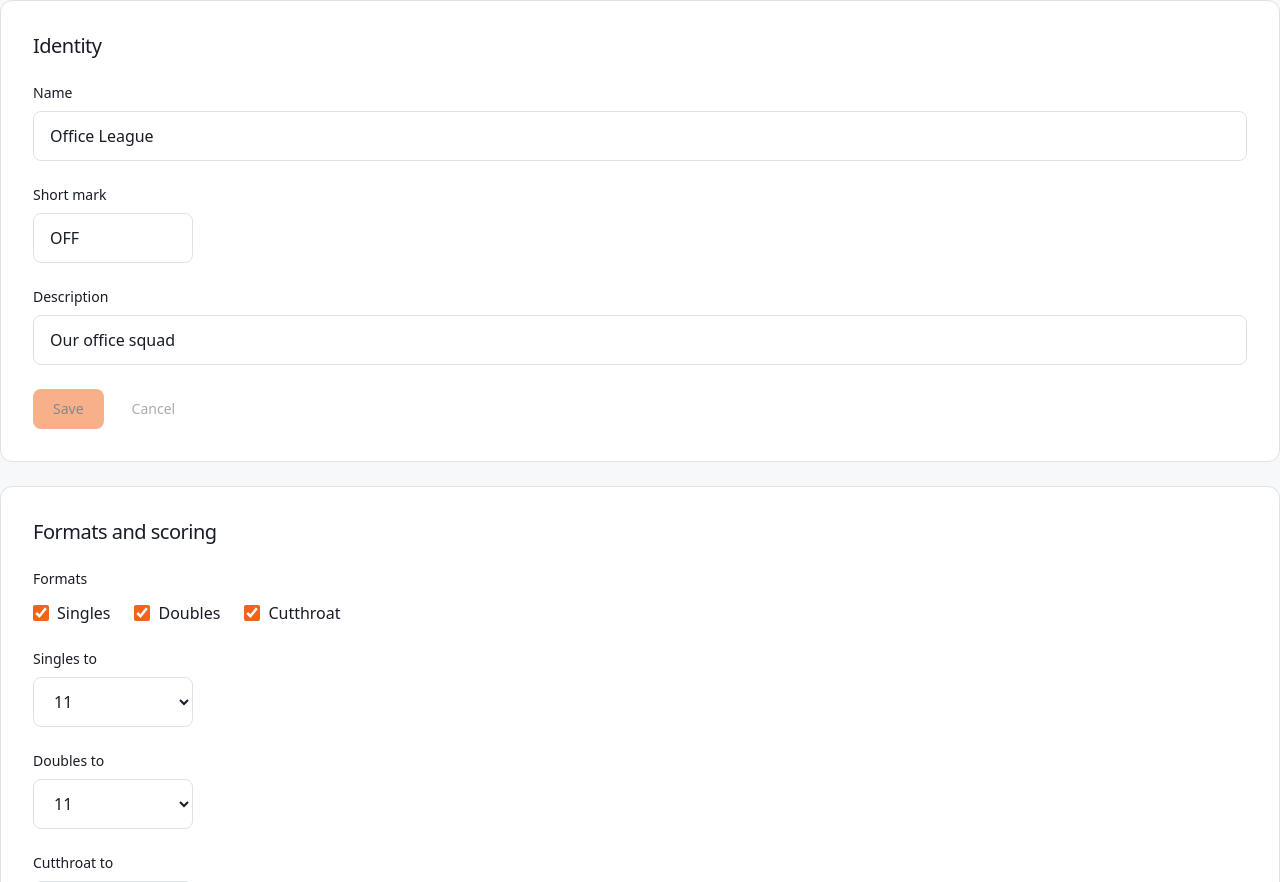
Test case: a save whose answer was lost › offers nothing to send while the re-read that decides is still in flight
Replace the text in the field with id "setting-name" with "Renamed" at coordinates (640, 136), box 33,111 -> 1247,161
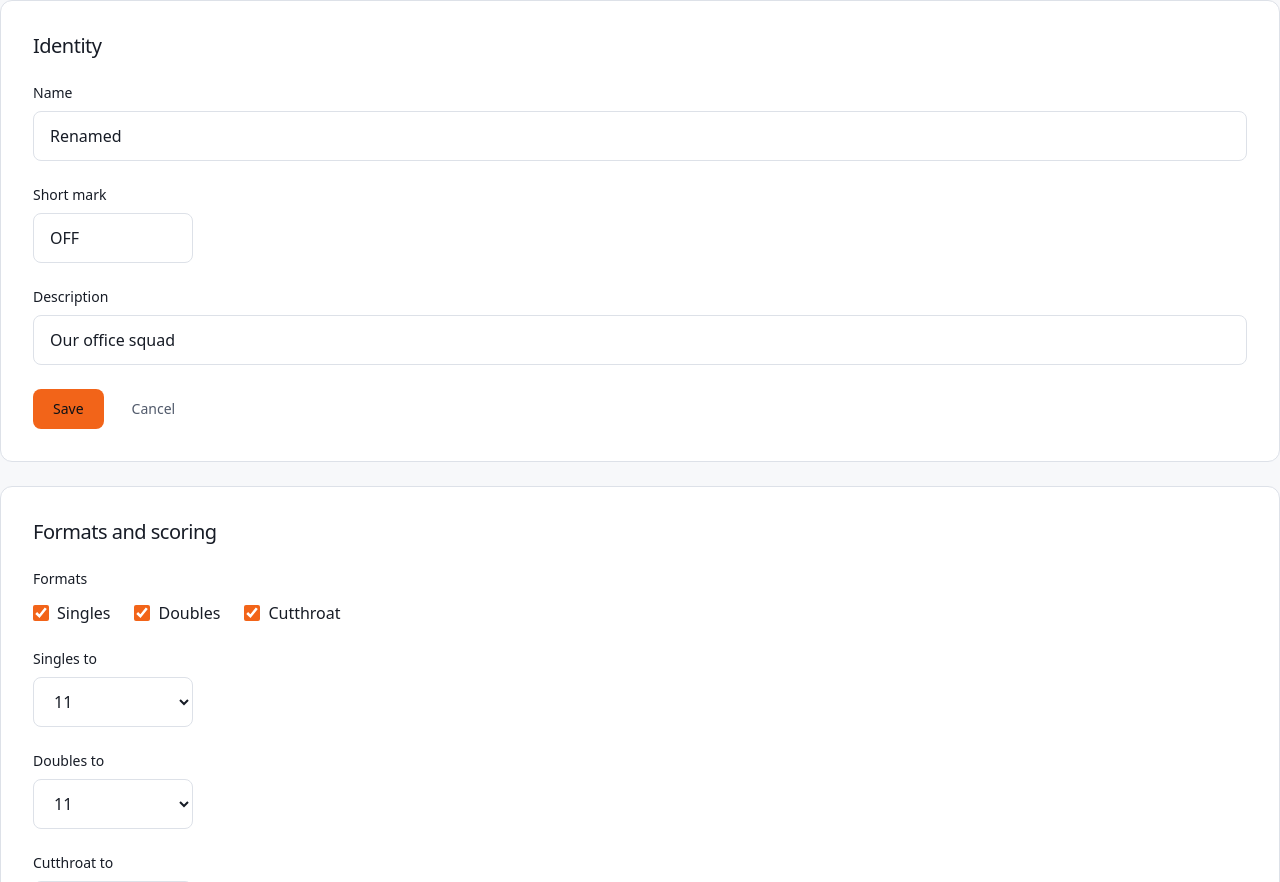
Click the button "Save" at coordinates (68, 409), box 33,389 -> 104,429
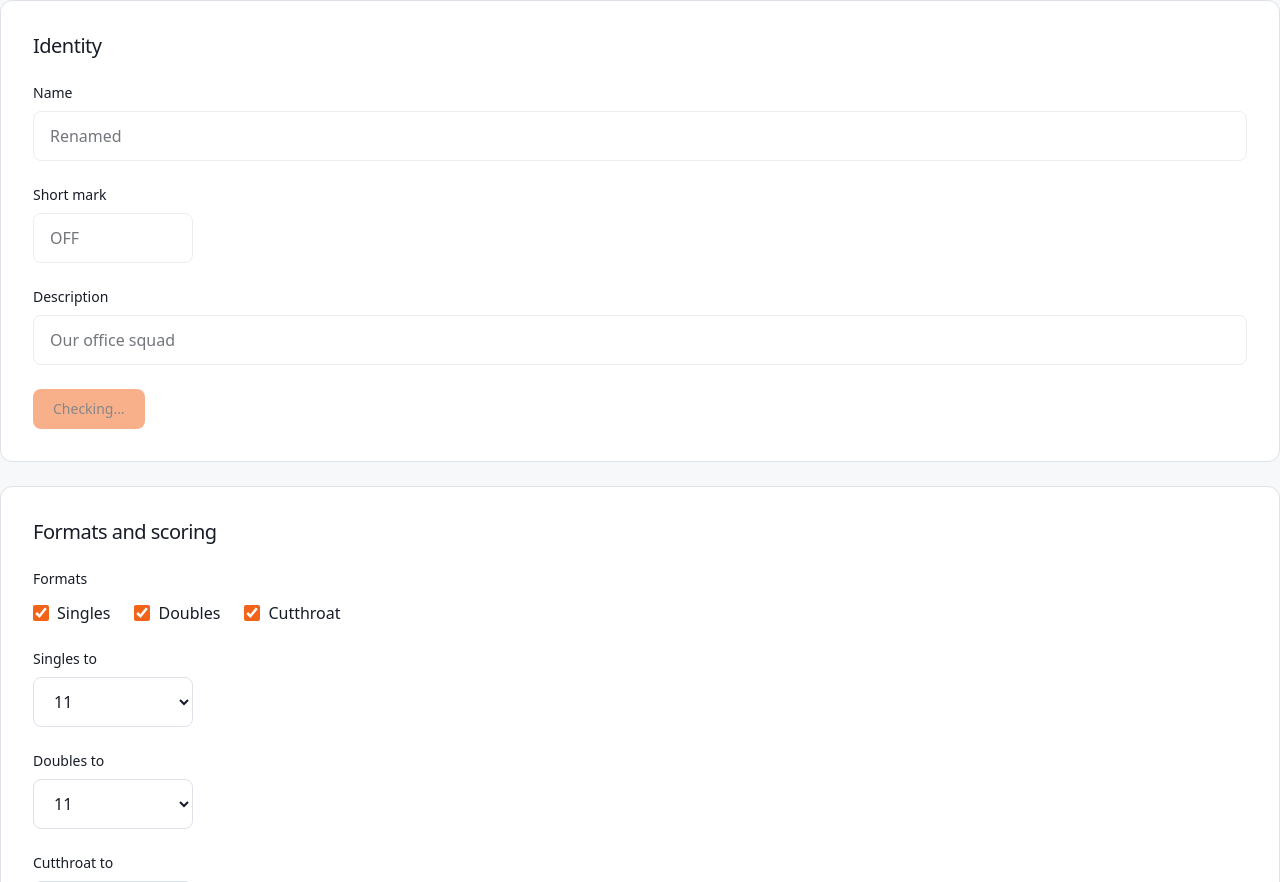
Check: the button "Checking…" is disabled, box 33,389 -> 144,429
